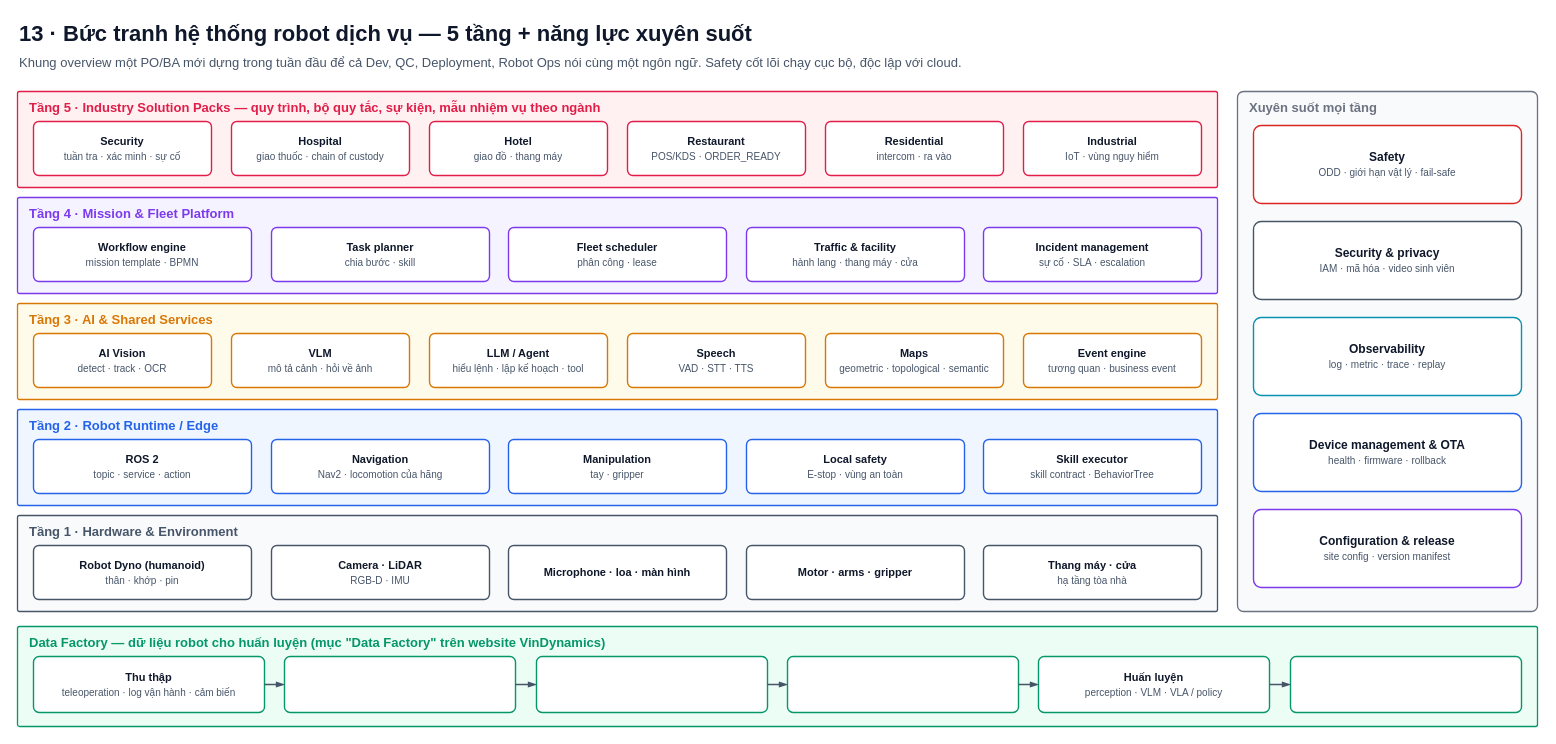
This 1556x744 diagram has some shape labels left out. Here are the shapes that lost their labels. From the top down, the centre of each, then its label:
the point at 399,684: Làm sạch & đồng bộ timestamp · calibration · episode
the point at 651,684: Gán nhãn object · hành động · thành công/thất bại
the point at 902,684: Dataset version manifest · split · license
the point at 1405,684: Đánh giá offline → sim → hardware → field
